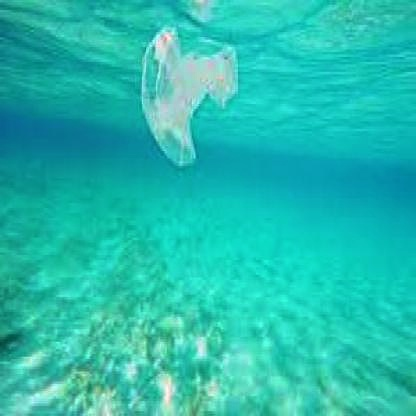pbag: (140, 22, 238, 168)
